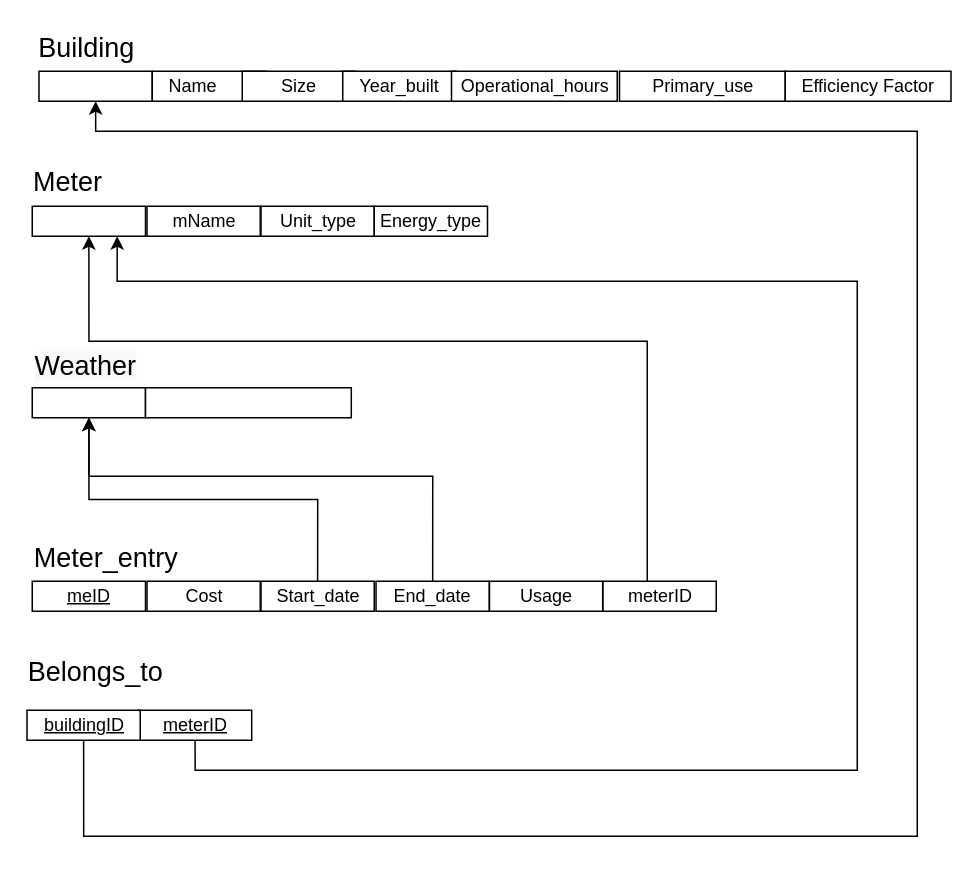
This 977x875 diagram has some shape labels left out. Here are the shapes that lost their labels. From the top down, the centre of each, then its label:
At (x=95, y=85): "bID".
At (x=88, y=220): "mID".
At (x=88, y=402): "Date".
At (x=247, y=402): "Average_temperature".
